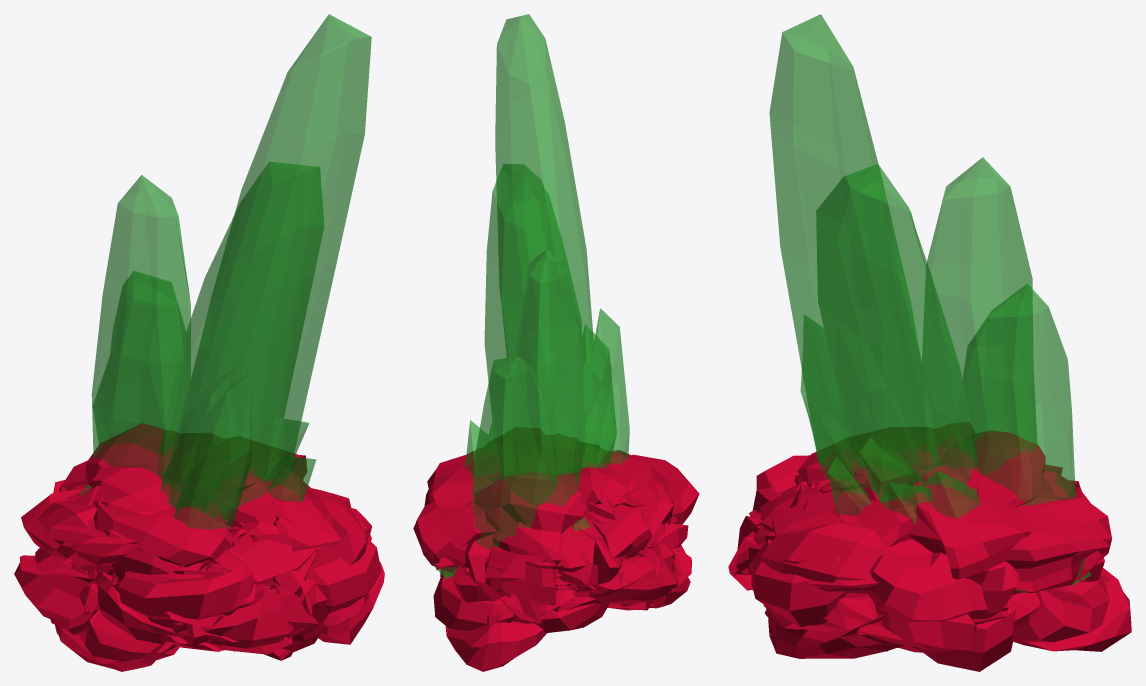
Rendered from crystal12.obj.
3 renders of one model, left to right at view 1: azimuth 30°, elevation 25°; view 2: azimuth 150°, elevation 25°; view 3: azimuth 270°, elevation 25°, orthographic. The views are drawn at different scales.
Visible parts, largest first — view 1: Circle, Cube.001; view 2: Circle, Cube.001; view 3: Circle, Cube.001.
Part boxes in pixels (box(x1,y1,x2,y2)): Circle: box(79, 14, 371, 529); Cube.001: box(14, 423, 384, 671); Circle: box(433, 14, 629, 579); Cube.001: box(413, 450, 699, 671); Circle: box(769, 14, 1090, 592); Cube.001: box(728, 431, 1131, 671).
Bounding box in the file's own units: 2.13 × 4.33 × 2.34.
